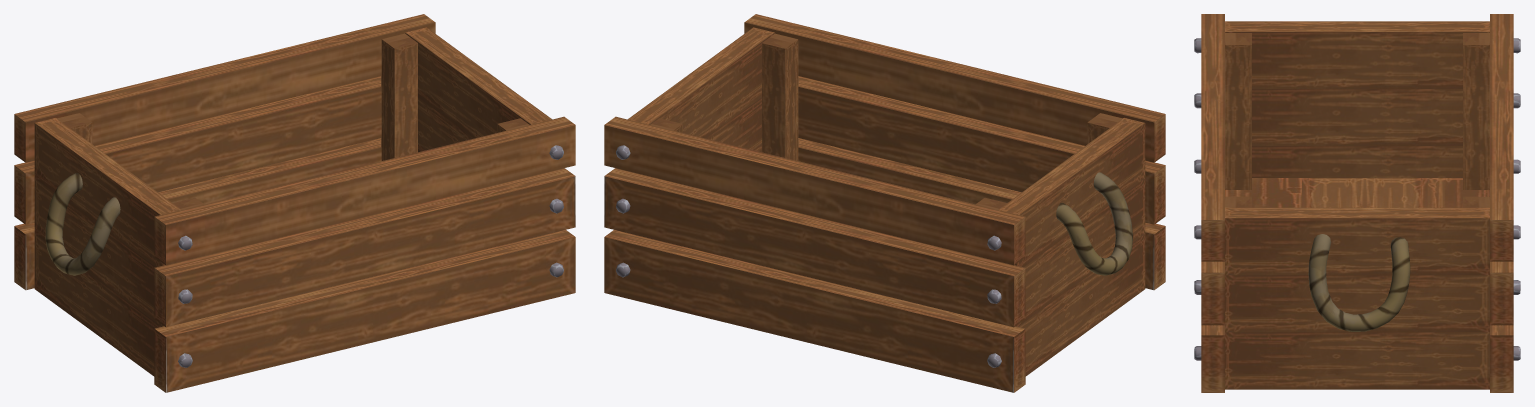
The model's file is FarmCrate_Empty.gltf.
3 views of the same model, side by side, from view 1: azimuth 30°, elevation 25°; view 2: azimuth 150°, elevation 25°; view 3: azimuth 270°, elevation 25° (orthographic). The views are drawn at different scales.
Visible parts, largest first — view 1: FarmCrate_Empty; view 2: FarmCrate_Empty; view 3: FarmCrate_Empty.
Part boxes in pixels (box(x1,y1,x2,y2)): FarmCrate_Empty: box(14, 14, 575, 392); FarmCrate_Empty: box(604, 14, 1165, 392); FarmCrate_Empty: box(1194, 14, 1520, 392).
Bounding box in the file's own units: 0.7138 × 0.2438 × 0.4142.
2 materials, 2 textured.
